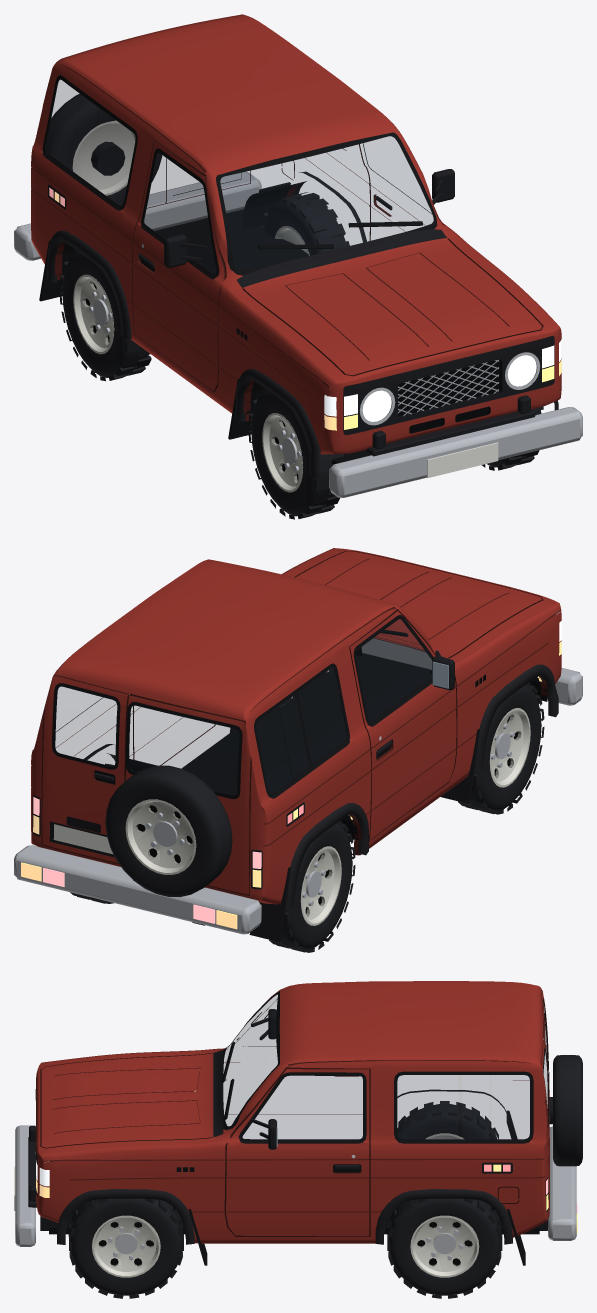
Rendered from car_offroad_red.glb.
3 renders of one model, top to bottom at view 1: azimuth 30°, elevation 25°; view 2: azimuth 150°, elevation 25°; view 3: azimuth 270°, elevation 25°, orthographic. The views are drawn at different scales.
Visible parts, largest first — view 1: body, wheel_fl, wheel_rl, spare, wheel_rr; view 2: body, spare, wheel_rl, wheel_fl; view 3: body, wheel_rr, wheel_fr, spare, wheel_rl.
Boxes of the visible parts, x1,y1,x2,y2 form: body: [14, 14, 582, 497]; wheel_fl: [248, 387, 343, 519]; wheel_rl: [59, 249, 151, 381]; spare: [45, 93, 162, 205]; wheel_rr: [260, 192, 349, 255]; body: [14, 548, 582, 942]; spare: [105, 765, 232, 897]; wheel_rl: [269, 821, 355, 952]; wheel_fl: [458, 682, 544, 814]; body: [14, 981, 577, 1265]; wheel_rr: [387, 1198, 502, 1298]; wheel_fr: [68, 1198, 183, 1298]; spare: [553, 1055, 582, 1166]; wheel_rl: [397, 1101, 498, 1139].
Size of the model in its own units: 2.04 by 1.9 by 4.13.
